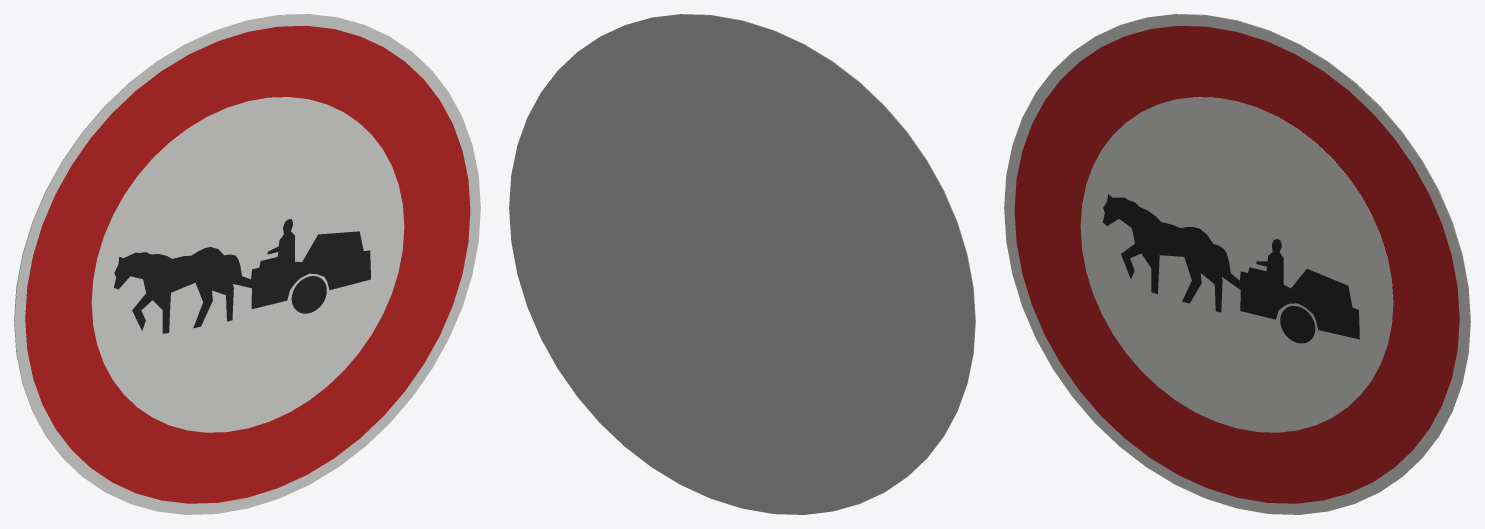
The picture shows the model from 3 angles, left to right: view 1: azimuth 30°, elevation 25°; view 2: azimuth 150°, elevation 25°; view 3: azimuth 330°, elevation 25°; orthographic projection.
Parts seen in each view (by area): view 1: B9c_p01, B9c_p02, B9c_p00, B9c_p03, B9c_p04, B9c_dos; view 2: B9c_dos, B9c_p00; view 3: B9c_p01, B9c_p02, B9c_p00, B9c_p03, B9c_p04, B9c_dos.
Boxes of the visible parts, bbox=[...] form: B9c_p01: bbox=[25, 25, 470, 503]; B9c_p02: bbox=[91, 97, 404, 432]; B9c_p00: bbox=[14, 14, 480, 514]; B9c_p03: bbox=[114, 219, 370, 333]; B9c_p04: bbox=[291, 276, 326, 313]; B9c_dos: bbox=[14, 14, 385, 473]; B9c_dos: bbox=[509, 14, 975, 514]; B9c_p00: bbox=[604, 14, 975, 473]; B9c_p01: bbox=[1014, 25, 1459, 503]; B9c_p02: bbox=[1080, 97, 1393, 432]; B9c_p00: bbox=[1004, 14, 1470, 514]; B9c_p03: bbox=[1102, 194, 1359, 339]; B9c_p04: bbox=[1280, 306, 1315, 343]; B9c_dos: bbox=[1099, 14, 1470, 473].
Bounding box in the file's own units: 0.85 × 0.8498 × 0.0035.
